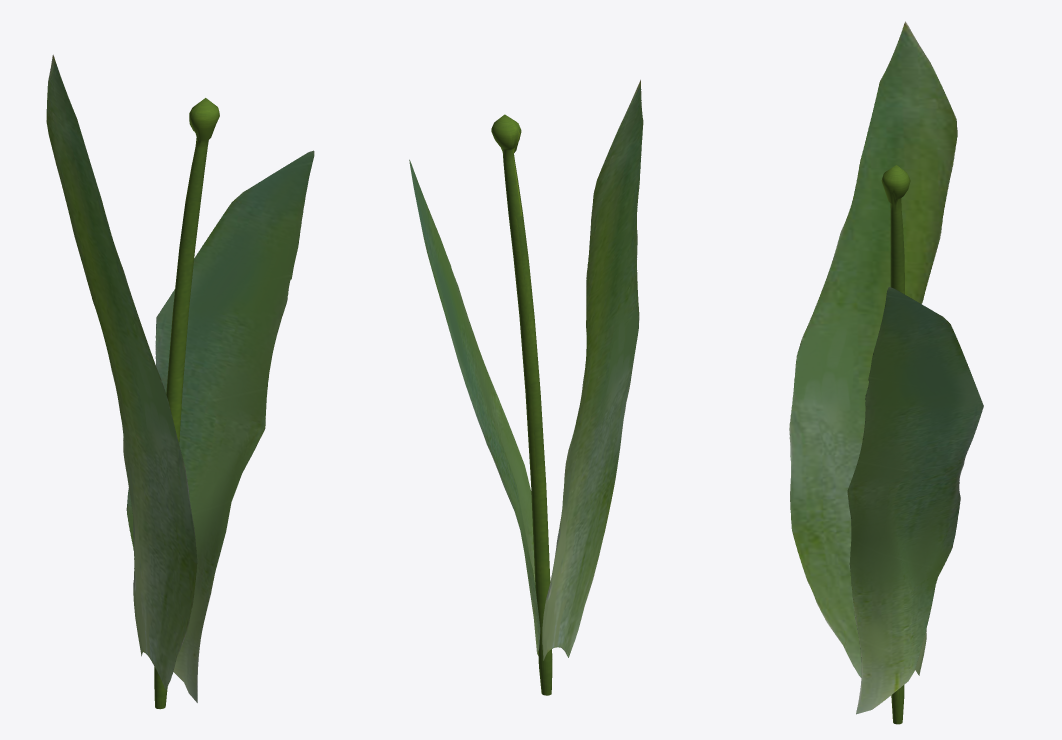
File: Tulip_young.fbx
3 views of the same model, side by side, from view 1: azimuth 30°, elevation 25°; view 2: azimuth 150°, elevation 25°; view 3: azimuth 270°, elevation 25° (orthographic). The views are drawn at different scales.
Visible parts, largest first — view 1: pasted__pasted__pCube1, pasted__pCube1, pasted__pCylinder1; view 2: pasted__pCube1, pasted__pasted__pCube1, pasted__pCylinder1; view 3: pasted__pCube1, pasted__pasted__pCube1, pasted__pCylinder1.
Part boxes in pixels (x1,y1,x2,y2): pasted__pasted__pCube1: [126, 150, 314, 702]; pasted__pCube1: [46, 54, 197, 690]; pasted__pCylinder1: [154, 98, 219, 709]; pasted__pCube1: [542, 79, 643, 660]; pasted__pasted__pCube1: [409, 159, 540, 655]; pasted__pCylinder1: [491, 114, 552, 695]; pasted__pCube1: [789, 21, 957, 677]; pasted__pasted__pCube1: [847, 287, 983, 714]; pasted__pCylinder1: [881, 165, 910, 724].
Size of the model in its own units: 8.69 by 20.46 by 8.53.
